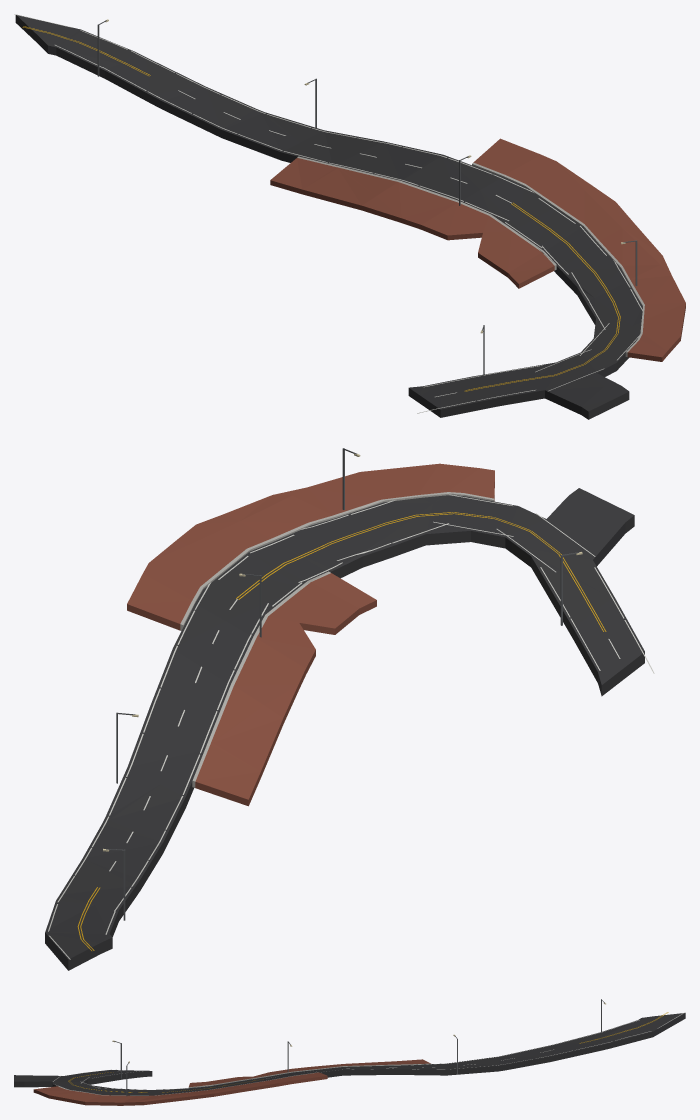
3 renders of one model, top to bottom at view 1: azimuth 30°, elevation 25°; view 2: azimuth 150°, elevation 25°; view 3: azimuth 270°, elevation 25°, orthographic. The views are drawn at different scales.
Bounding box in the file's own units: 40.69 × 18.17 × 130.
